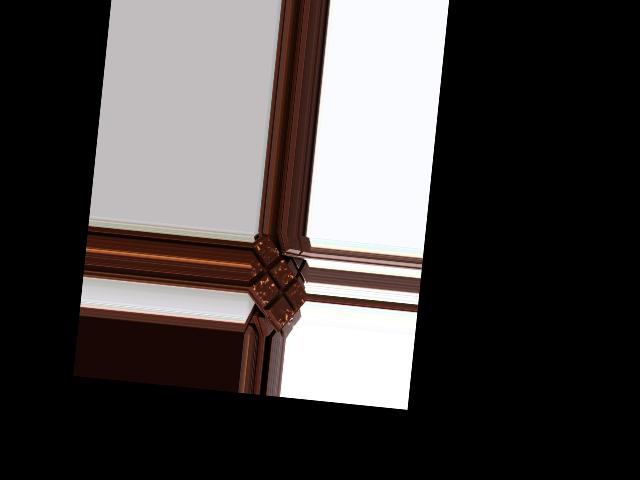chocolate: (244, 234, 311, 327)
